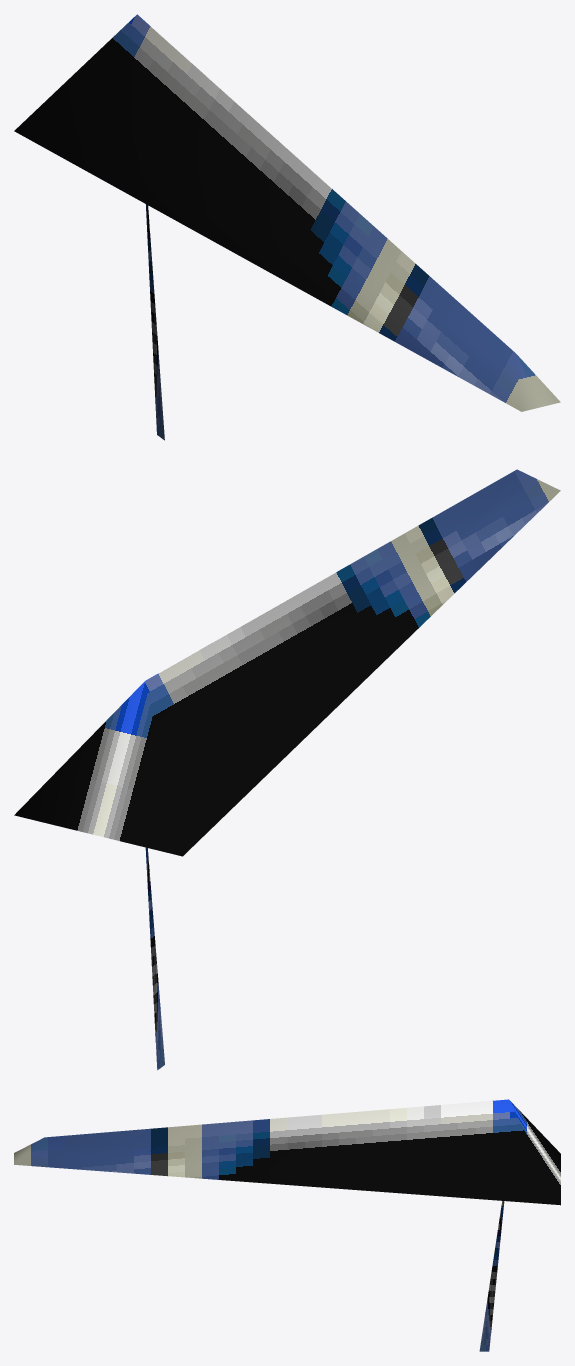
3 renders of one model, top to bottom at view 1: azimuth 30°, elevation 25°; view 2: azimuth 150°, elevation 25°; view 3: azimuth 270°, elevation 25°, orthographic. The views are drawn at different scales.
Parts seen in each view (by area): view 1: MobileArtilleryX_Skel_part02, MobileArtilleryX_Skel_part01; view 2: MobileArtilleryX_Skel_part02, MobileArtilleryX_Skel_part01; view 3: MobileArtilleryX_Skel_part02, MobileArtilleryX_Skel_part01.
Boxes of the visible parts, x1,y1,x2,y2 form: MobileArtilleryX_Skel_part02: [14, 14, 560, 411]; MobileArtilleryX_Skel_part01: [146, 204, 164, 440]; MobileArtilleryX_Skel_part02: [14, 469, 560, 856]; MobileArtilleryX_Skel_part01: [145, 847, 164, 1070]; MobileArtilleryX_Skel_part02: [14, 1099, 560, 1205]; MobileArtilleryX_Skel_part01: [479, 1201, 504, 1351].
Size of the model in its own units: 3.11 by 7.09 by 14.01.
2 materials, 2 textured.
